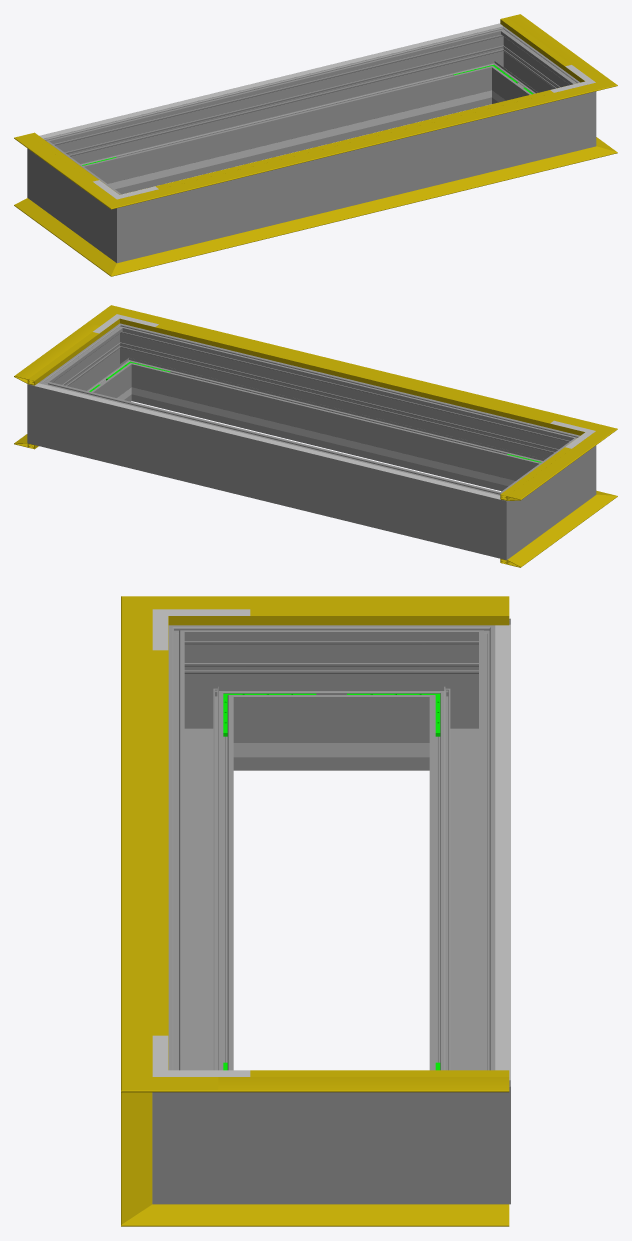
The picture shows the model from 3 angles, top to bottom: view 1: azimuth 30°, elevation 25°; view 2: azimuth 150°, elevation 25°; view 3: azimuth 270°, elevation 25°; orthographic projection. The views are drawn at different scales.
Visible parts, largest first — view 1: 3DGeom-276, 3DGeom-298, 3DGeom-28, 3DGeom-141, 3DGeom-270, 3DGeom-290, 3DGeom-244, 3DGeom-284, 3DGeom-268, 3DGeom-297, 3DGeom-220, 3DGeom-278 (+11 smaller); view 2: 3DGeom-298, 3DGeom-276, 3DGeom-141, 3DGeom-278, 3DGeom-284, 3DGeom-239, 3DGeom-290, 3DGeom-297, 3DGeom-268, 3DGeom-220, 3DGeom-270, 3DGeom-158 (+9 smaller); view 3: 3DGeom-276, 3DGeom-298, 3DGeom-268, 3DGeom-297, 3DGeom-141, 3DGeom-284, 3DGeom-290, 3DGeom-270, 3DGeom-278, 3DGeom-220, 3DGeom-147, 3DGeom-30 (+12 smaller).
Part boxes in pixels (x1=…): 3DGeom-276: x1=73, y1=35, x2=484, y2=194; 3DGeom-298: x1=159, y1=101, x2=554, y2=252; 3DGeom-28: x1=146, y1=153, x2=575, y2=266; 3DGeom-141: x1=146, y1=89, x2=575, y2=199; 3DGeom-270: x1=92, y1=183, x2=158, y2=263; 3DGeom-290: x1=554, y1=71, x2=596, y2=156; 3DGeom-244: x1=123, y1=100, x2=450, y2=186; 3DGeom-284: x1=468, y1=26, x2=523, y2=105; 3DGeom-268: x1=51, y1=153, x2=105, y2=244; 3DGeom-297: x1=496, y1=41, x2=564, y2=102; 3DGeom-220: x1=39, y1=23, x2=503, y2=138; 3DGeom-278: x1=27, y1=131, x2=89, y2=215; 3DGeom-298: x1=138, y1=332, x2=549, y2=491; 3DGeom-276: x1=69, y1=388, x2=472, y2=549; 3DGeom-141: x1=141, y1=315, x2=574, y2=431; 3DGeom-278: x1=464, y1=480, x2=531, y2=560; 3DGeom-284: x1=27, y1=368, x2=76, y2=453; 3DGeom-239: x1=172, y1=397, x2=500, y2=483; 3DGeom-290: x1=99, y1=323, x2=154, y2=402; 3DGeom-297: x1=58, y1=338, x2=127, y2=400; 3DGeom-268: x1=518, y1=450, x2=571, y2=541; 3DGeom-220: x1=34, y1=383, x2=500, y2=499; 3DGeom-270: x1=534, y1=428, x2=596, y2=512; 3DGeom-158: x1=155, y1=324, x2=553, y2=423; 3DGeom-276: x1=429, y1=659, x2=495, y2=1070; 3DGeom-298: x1=168, y1=659, x2=233, y2=1070; 3DGeom-268: x1=250, y1=625, x2=413, y2=770; 3DGeom-297: x1=250, y1=1092, x2=413, y2=1204; 3DGeom-141: x1=121, y1=637, x2=168, y2=1049; 3DGeom-284: x1=413, y1=1045, x2=510, y2=1204; 3DGeom-290: x1=152, y1=1045, x2=249, y2=1204; 3DGeom-270: x1=168, y1=625, x2=249, y2=770; 3DGeom-278: x1=413, y1=618, x2=510, y2=770; 3DGeom-220: x1=495, y1=624, x2=510, y2=1080; 3DGeom-147: x1=218, y1=596, x2=509, y2=625; 3DGeom-30: x1=218, y1=1204, x2=509, y2=1226.
Size of the model in its own units: 1.83 by 0.2357 by 0.6096.
